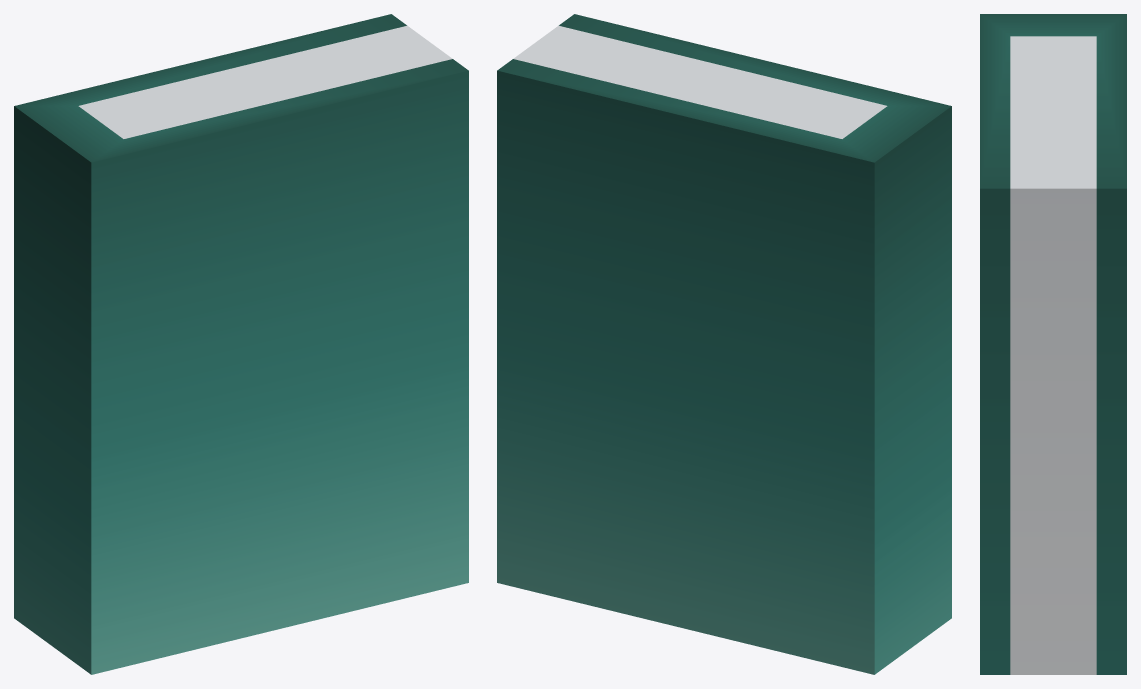
Rendered from Book 01.FBX.
3 renders of one model, left to right at view 1: azimuth 30°, elevation 25°; view 2: azimuth 150°, elevation 25°; view 3: azimuth 270°, elevation 25°, orthographic. The views are drawn at different scales.
Parts seen in each view (by area): view 1: Book 01; view 2: Book 01; view 3: Book 01.
Boxes of the visible parts, box(x1,y1,x2,y2) form: Book 01: box(14, 14, 468, 674); Book 01: box(497, 14, 951, 674); Book 01: box(980, 14, 1126, 674).
Bounding box in the file's own units: 21.13 × 27.41 × 7.5.
